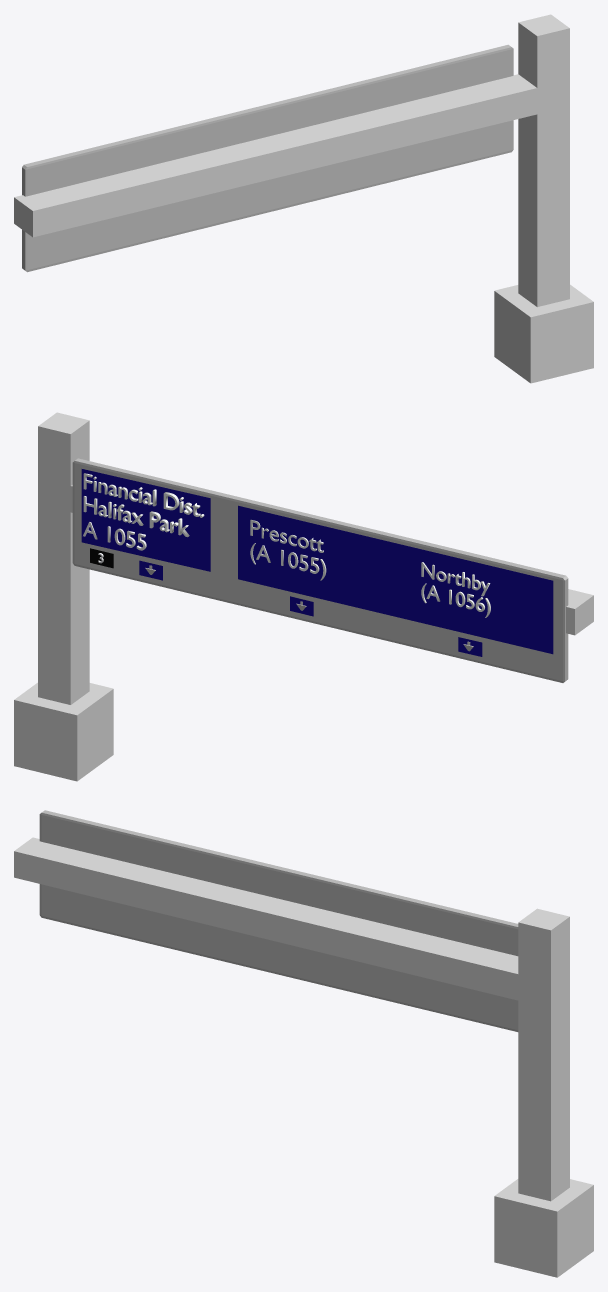
The model's file is M150JCT3ExitSignEastbound.fbx.
3 views of the same model, one above another, from view 1: azimuth 30°, elevation 25°; view 2: azimuth 150°, elevation 25°; view 3: azimuth 330°, elevation 25° (orthographic).
Visible parts, largest first — view 1: Cube, Cube.008; view 2: Plane.005, Cube, Cube.008, Plane.001, Text, Text.002, Text.003, Text.001; view 3: Cube, Cube.008.
Boxes of the visible parts, x1=… form: Cube: x1=14, y1=14, x2=593, y2=383; Cube.008: x1=22, y1=44, x2=513, y2=272; Plane.005: x1=238, y1=505, x2=553, y2=654; Cube: x1=14, y1=412, x2=593, y2=781; Cube.008: x1=72, y1=458, x2=568, y2=682; Plane.001: x1=81, y1=469, x2=210, y2=571; Text: x1=83, y1=473, x2=204, y2=537; Text.002: x1=250, y1=519, x2=326, y2=580; Text.003: x1=421, y1=562, x2=490, y2=617; Text.001: x1=83, y1=522, x2=146, y2=550; Cube: x1=14, y1=837, x2=593, y2=1277; Cube.008: x1=39, y1=810, x2=518, y2=1031.
Bounding box in the file's own units: 1746 × 1019 × 200.
